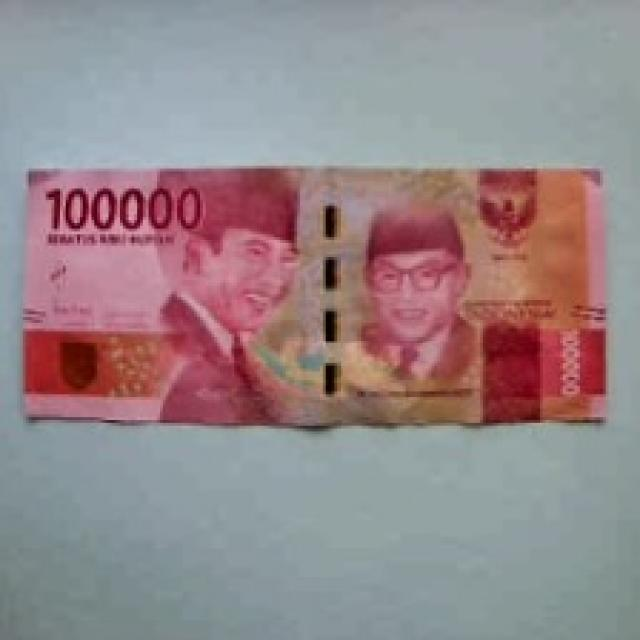lima puluh ribu rupiah: (0, 150, 635, 453)
